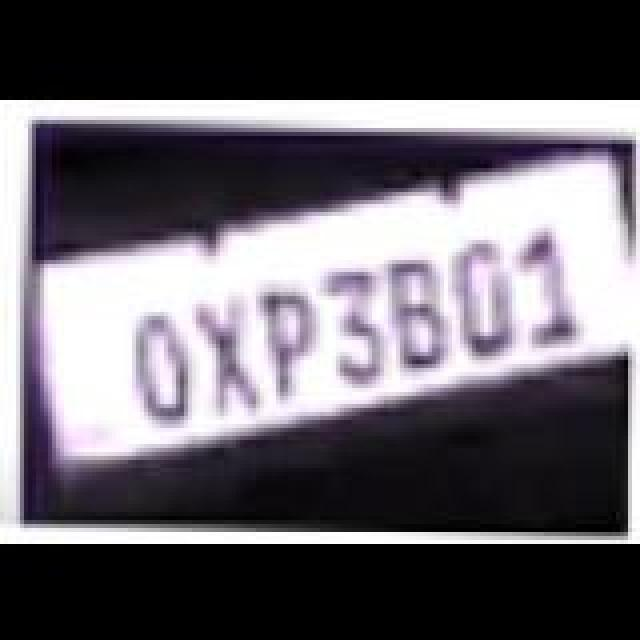1: (516, 224, 588, 344)
3: (322, 264, 390, 384)
B: (390, 254, 458, 370)
D: (452, 236, 524, 356)
O: (134, 310, 194, 426)
P: (260, 286, 324, 402)
X: (194, 290, 262, 414)
